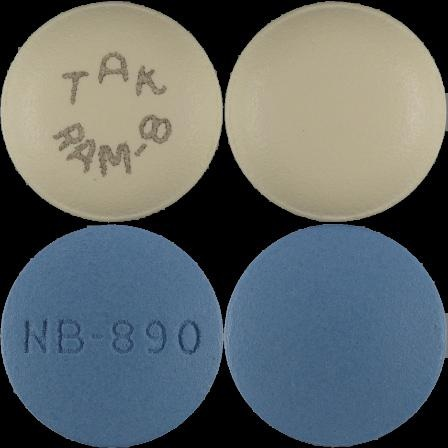64764-805: (0, 0, 224, 224)
